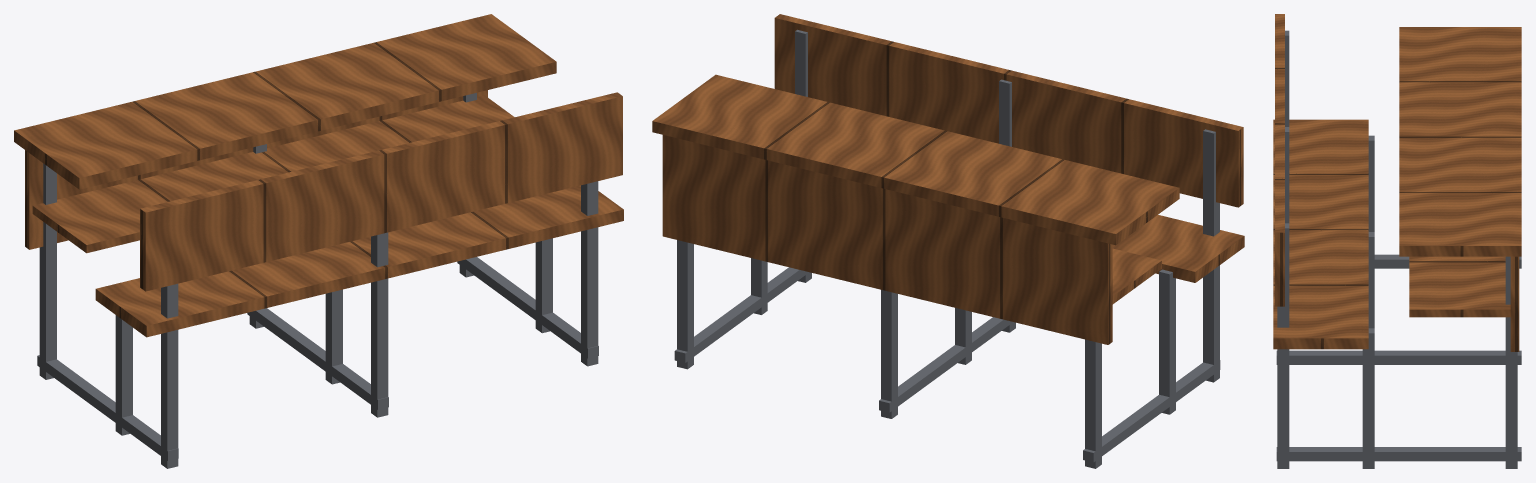
The model's file is Prop_PatnaBench.glb.
3 views of the same model, side by side, from view 1: azimuth 30°, elevation 25°; view 2: azimuth 150°, elevation 25°; view 3: azimuth 270°, elevation 25° (orthographic). The views are drawn at different scales.
Parts seen in each view (by area): view 1: Back, Desk, Seat, Shelf, Modesty, LegF_0, LegB_1, LegB_0, LegB_2, Runner_2, Runner_0, Runner_1 (+3 smaller); view 2: Modesty, Desk, Back, Seat, LegB_0, Runner_0, Runner_1, Runner_2, LegM_0, LegF_0, LegF_2, LegF_1 (+5 smaller); view 3: Desk, Seat, Shelf, Runner_2, Runner_1, Back, LegB_2, LegF_2, LegM_2, Modesty, LegM_0, LegM_1 (+3 smaller).
Part boxes in pixels (left/top/right/bottom): Back: left=140, top=92, right=622, bottom=291; Desk: left=14, top=14, right=556, bottom=189; Seat: left=95, top=185, right=623, bottom=337; Shelf: left=32, top=95, right=514, bottom=253; Modesty: left=25, top=90, right=487, bottom=249; LegF_0: left=39, top=163, right=56, bottom=379; LegB_1: left=371, top=232, right=388, bottom=417; LegB_0: left=161, top=283, right=178, bottom=468; LegB_2: left=581, top=181, right=598, bottom=366; Runner_2: left=457, top=257, right=598, bottom=358; Runner_0: left=37, top=355, right=178, bottom=460; Runner_1: left=247, top=308, right=388, bottom=409; Modesty: left=662, top=135, right=1112, bottom=344; Desk: left=652, top=74, right=1179, bottom=245; Back: left=774, top=14, right=1243, bottom=207; Seat: left=1112, top=215, right=1244, bottom=282; LegB_0: left=1203, top=129, right=1219, bottom=382; Runner_0: left=1083, top=360, right=1220, bottom=462; Runner_1: left=879, top=317, right=1010, bottom=412; Runner_2: left=674, top=267, right=808, bottom=362; LegM_0: left=1159, top=269, right=1175, bottom=414; LegF_0: left=1085, top=339, right=1101, bottom=468; LegF_2: left=677, top=240, right=693, bottom=369; LegF_1: left=881, top=290, right=897, bottom=418; Desk: left=1399, top=27, right=1521, bottom=256; Seat: left=1273, top=119, right=1368, bottom=349; Shelf: left=1409, top=256, right=1510, bottom=317; Runner_2: left=1276, top=447, right=1521, bottom=461; Runner_1: left=1276, top=350, right=1521, bottom=364; Back: left=1275, top=14, right=1284, bottom=306; LegB_2: left=1277, top=223, right=1289, bottom=468; LegF_2: left=1505, top=256, right=1517, bottom=468; LegM_2: left=1362, top=328, right=1374, bottom=468; Modesty: left=1510, top=256, right=1519, bottom=351; LegM_0: left=1368, top=135, right=1374, bottom=231; LegM_1: left=1368, top=232, right=1374, bottom=328.
Size of the model in its own units: 1.52 by 0.8 by 0.73.
2 materials, 1 textured.
